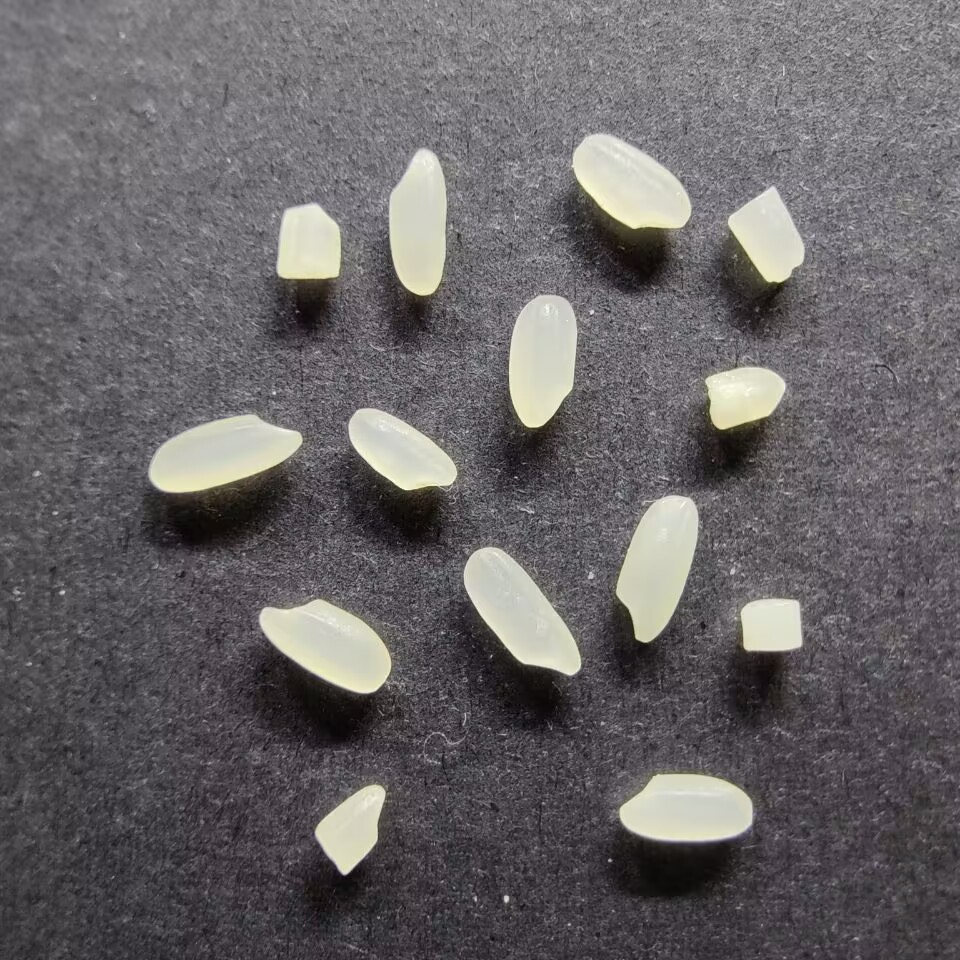broken: (727, 183, 807, 284), (312, 782, 386, 877), (274, 201, 342, 281), (704, 365, 786, 431), (740, 596, 804, 655)
rice: (461, 545, 582, 676), (257, 597, 393, 694), (613, 493, 699, 644), (146, 411, 303, 493), (570, 132, 692, 230), (617, 772, 754, 843), (506, 294, 578, 429), (346, 406, 458, 491), (386, 147, 449, 297)
